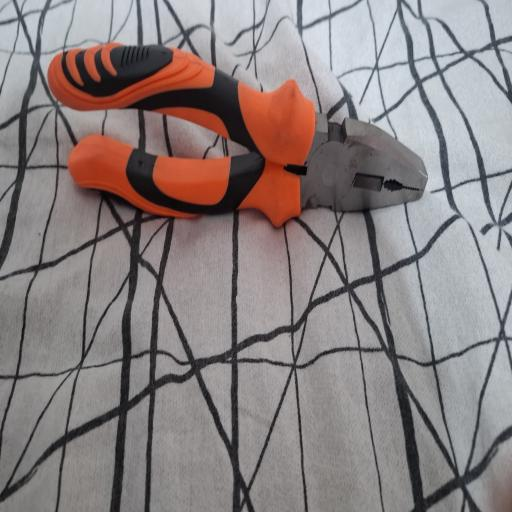alicate: (46, 43, 431, 230)
